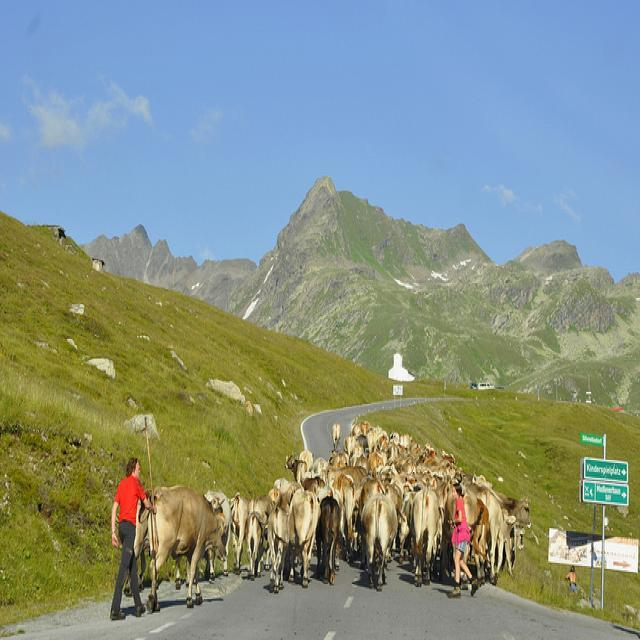cow: (123, 416, 525, 593), (147, 484, 227, 608), (411, 472, 445, 586), (359, 492, 397, 590), (286, 487, 320, 589), (492, 489, 530, 573), (266, 504, 294, 592), (203, 489, 231, 575), (314, 493, 339, 584), (332, 471, 354, 562), (327, 462, 369, 506), (243, 508, 268, 578), (227, 490, 248, 572), (397, 489, 417, 570), (357, 475, 385, 525), (246, 495, 274, 528), (330, 419, 340, 448), (266, 486, 278, 507)
